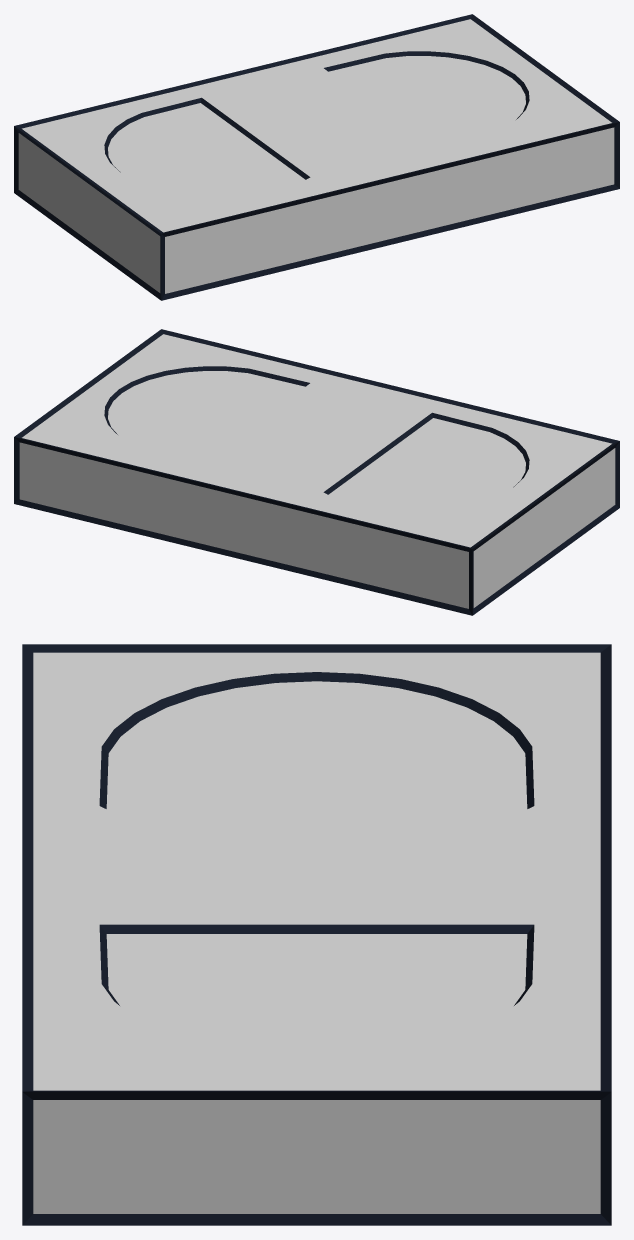
Rendered from vhs.glb.
3 views of the same model, one above another, from view 1: azimuth 30°, elevation 25°; view 2: azimuth 150°, elevation 25°; view 3: azimuth 270°, elevation 25° (orthographic). The views are drawn at different scales.
Visible parts, largest first — view 1: VHS; view 2: VHS; view 3: VHS.
Boxes of the visible parts, x1,y1,x2,y2 form: VHS: [14, 14, 619, 300]; VHS: [14, 329, 619, 615]; VHS: [22, 644, 611, 1225].
Size of the model in its own units: 3.79 by 0.55 by 2.11.
